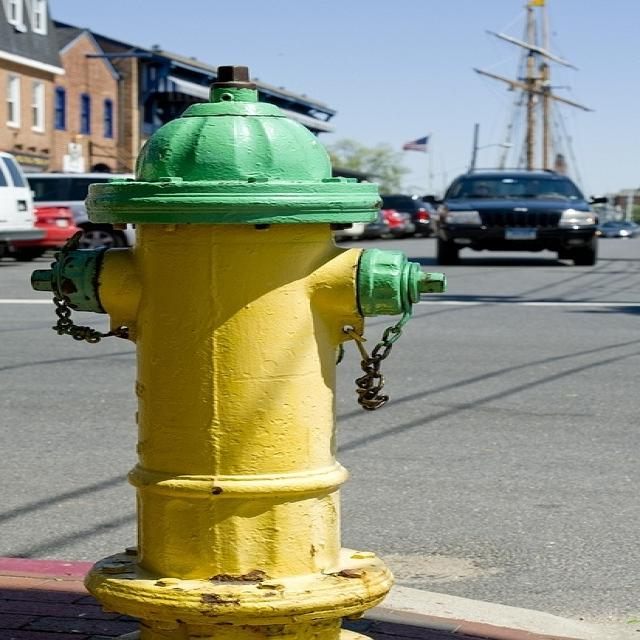fire_hydrant: (44, 67, 520, 603)
